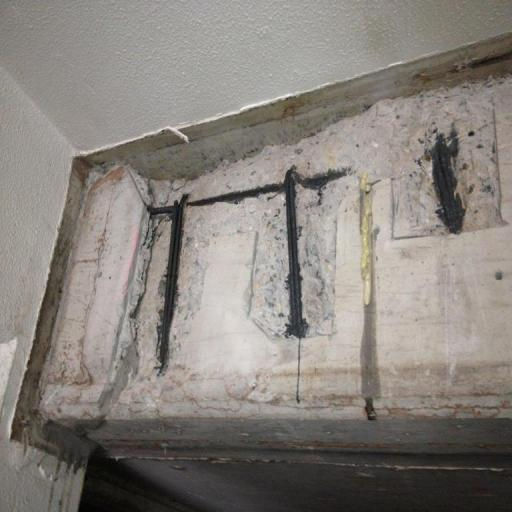spalling: (138, 83, 503, 386)
